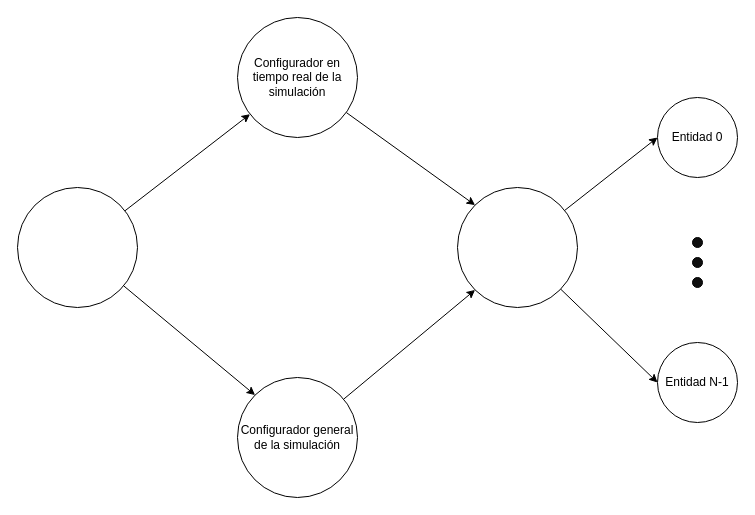
Some shapes in this 755 by 515 pixel diagram are drawn without their labels. Here are the shapes that lost their labels. From the top down, the centre of each, then its label:
At (x=77, y=247): "Usuario".
At (x=517, y=247): "Simulación".
